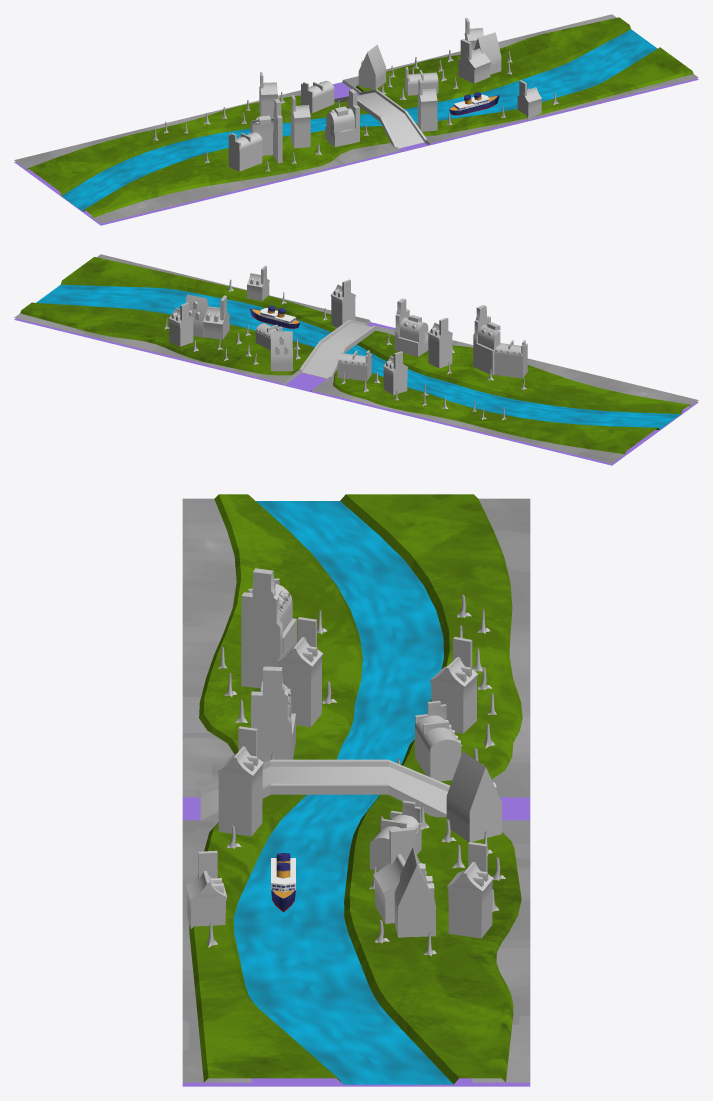
File: Separator_Chunk_River.FBX
3 views of the same model, one above another, from view 1: azimuth 30°, elevation 25°; view 2: azimuth 150°, elevation 25°; view 3: azimuth 270°, elevation 25° (orthographic). The views are drawn at different scales.
Visible parts, largest first — view 1: Object015; view 2: Object015; view 3: Object015.
Part boxes in pixels (x1,y1,x2,y2): Object015: (14,14,698,225); Object015: (14,254,698,465); Object015: (182,494,530,1086).
Size of the model in its own units: 318 by 33.37 by 80.03.
